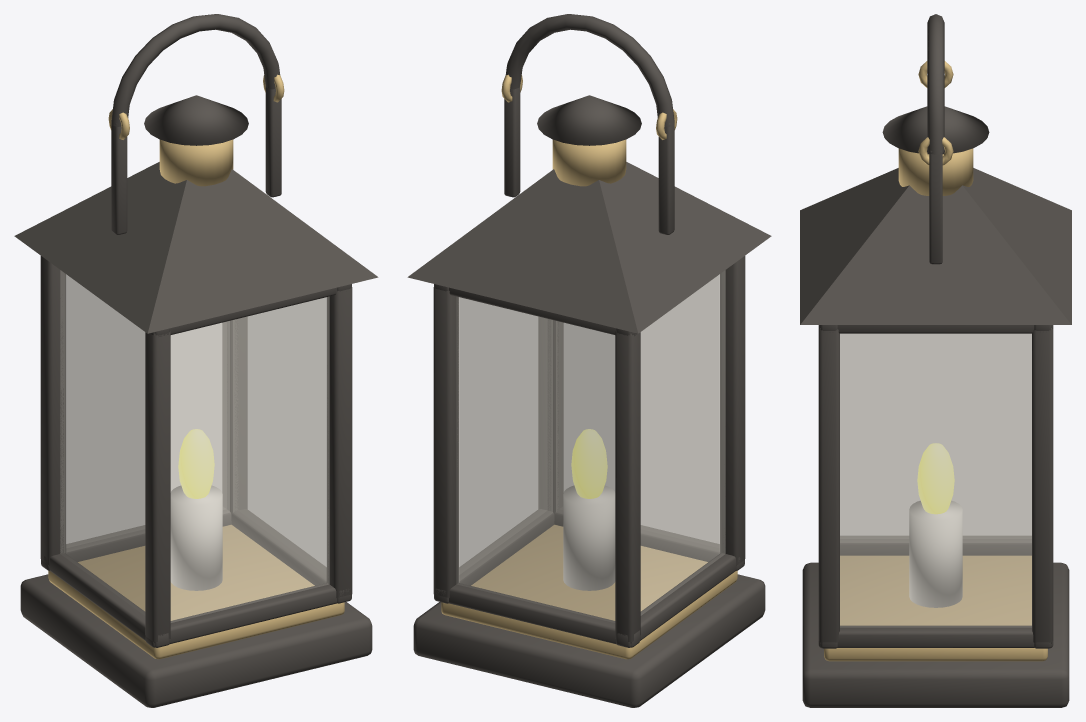
File: StoreItem_Lantern.glb
3 views of the same model, side by side, from view 1: azimuth 30°, elevation 25°; view 2: azimuth 150°, elevation 25°; view 3: azimuth 270°, elevation 25° (orthographic).
Parts seen in each view (by area): view 1: Lantern; view 2: Lantern; view 3: Lantern.
Part boxes in pixels (box(x1,y1,x2,y2)): Lantern: box(14, 14, 378, 707); Lantern: box(407, 14, 771, 707); Lantern: box(800, 14, 1071, 707).
Bounding box in the file's own units: 0.5091 × 1.31 × 0.5091.
